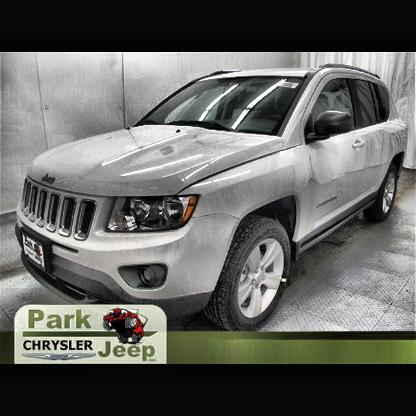Jeep Compass SUV 2012: (17, 64, 408, 334)
